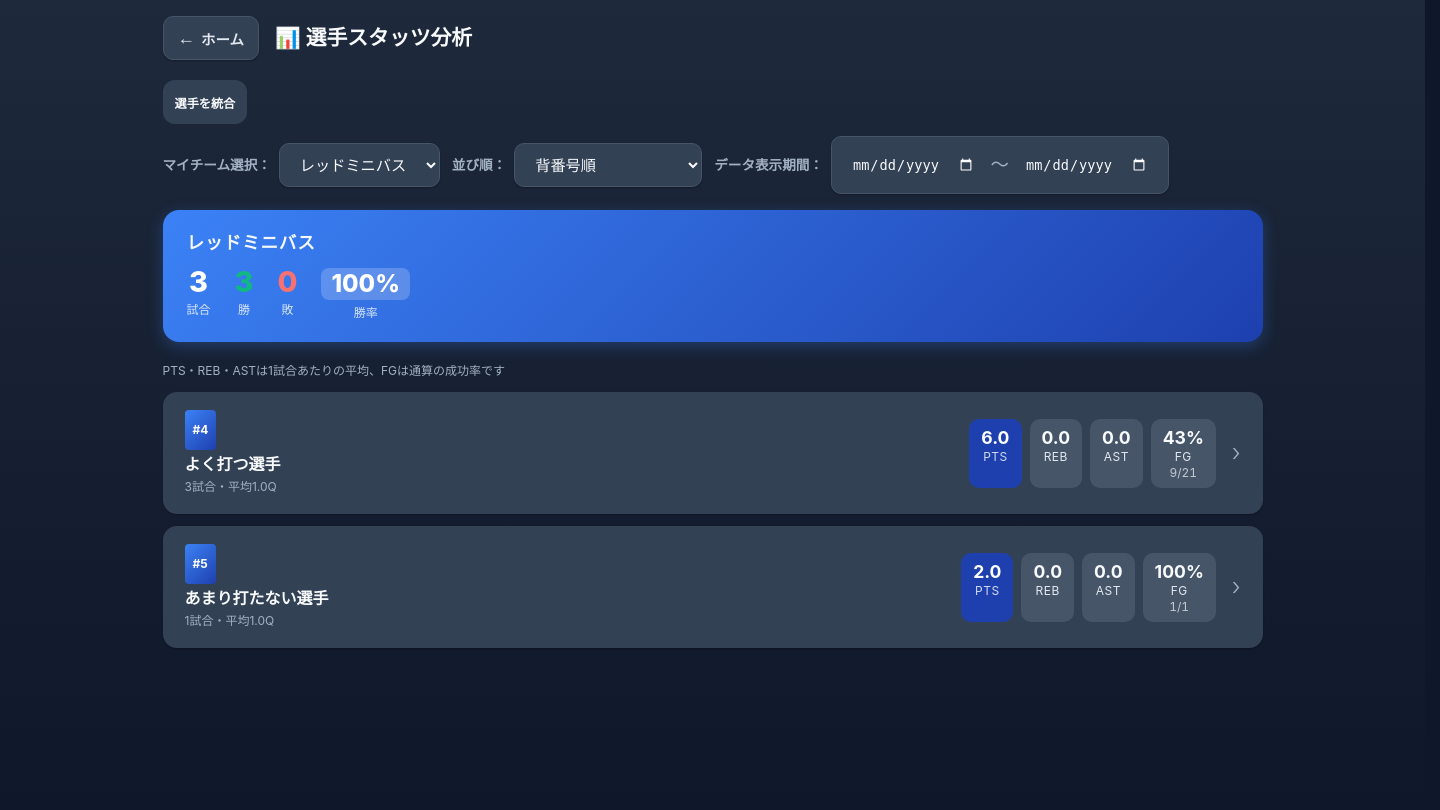
Test: FG%順の注記 › FG%順に切り替えると出る
Select "FG%が高い順" in the dropdown labelled "並び順：": (608, 165) x1=514 y1=143 x2=702 y2=187
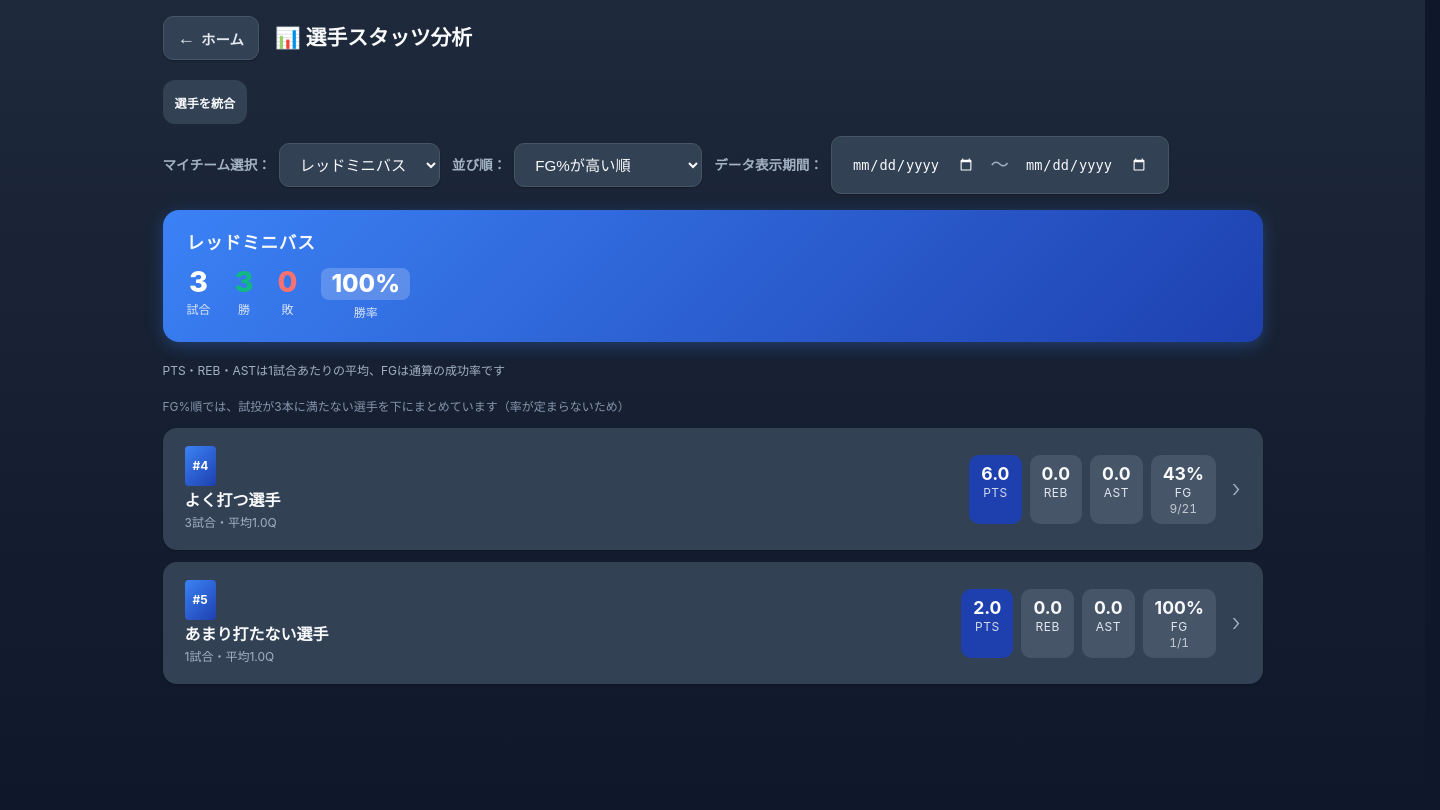
Now the text "FG%順では、試投が3本に満たない選手を下にまとめています（率が定まらないため）" is shown, box x1=162 y1=399 x2=630 y2=414
